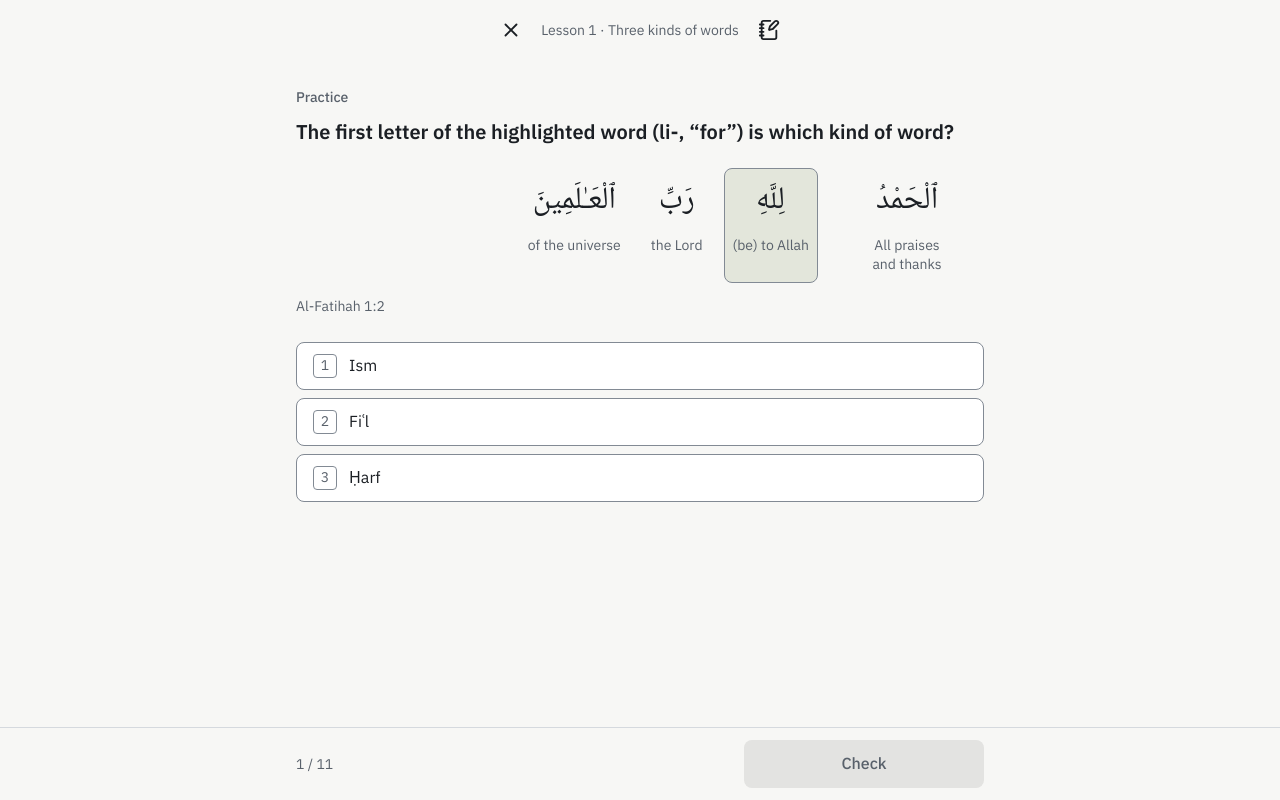
Test case: screens › shows no AI buttons without a key
This screenshot has width=1280, height=800.
Click the radio button labelled "1 Ism": (325, 366) left=296, top=342, right=984, bottom=390
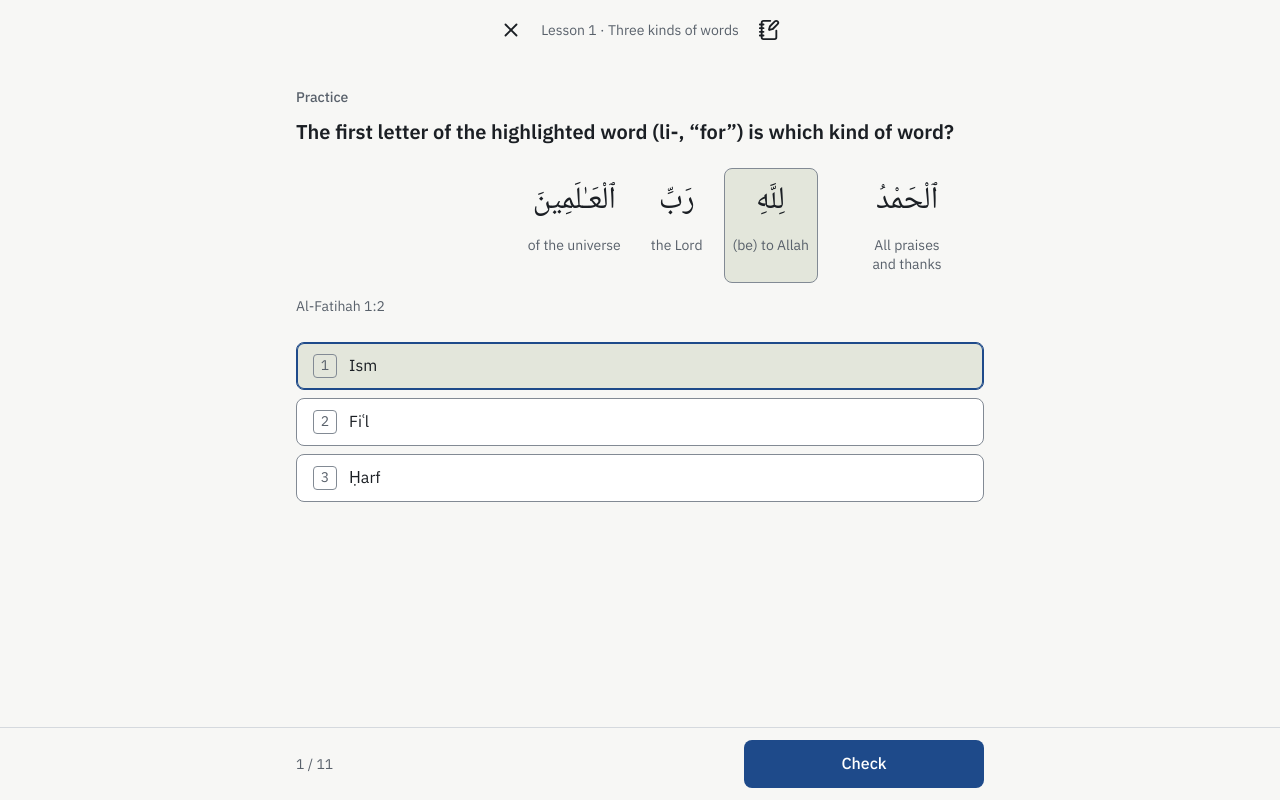
Click the button "Check": (864, 764) left=744, top=740, right=984, bottom=788
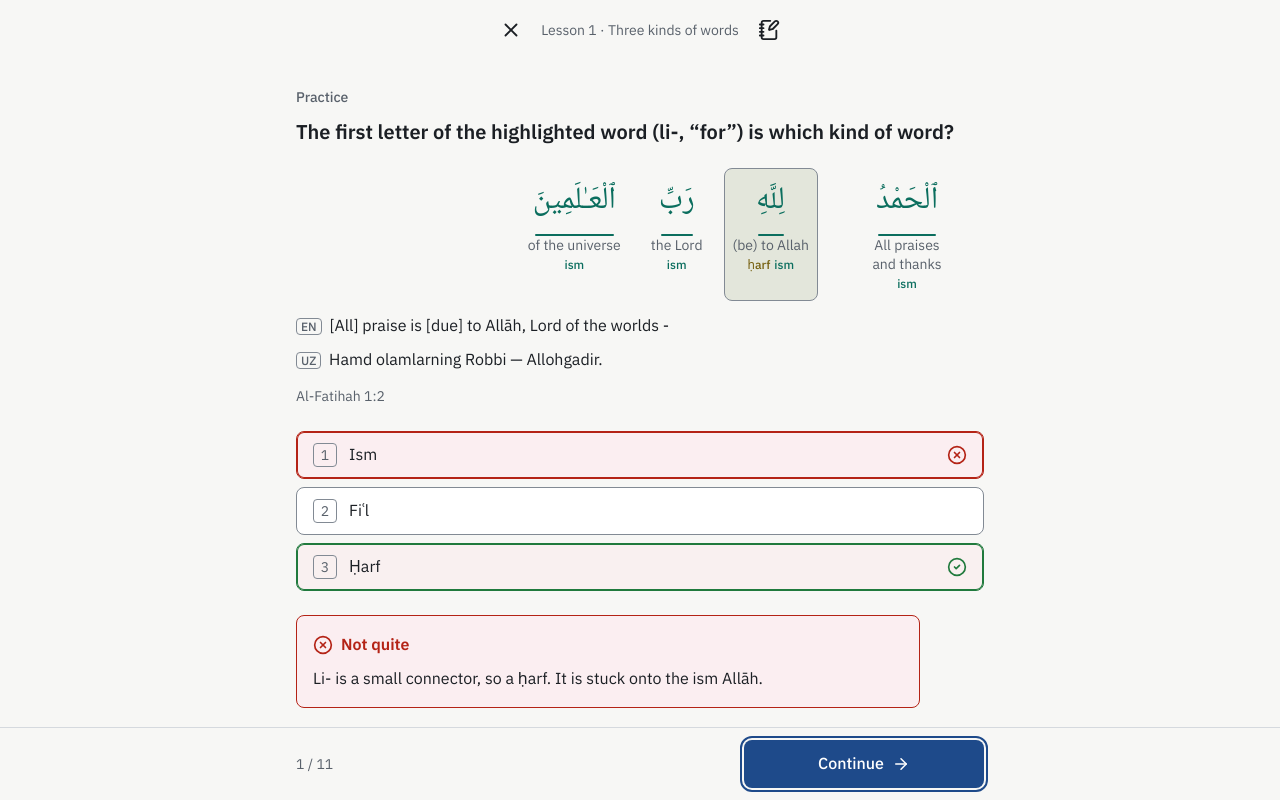
Now the text "Not quite" is shown, box left=341, top=632, right=410, bottom=658
